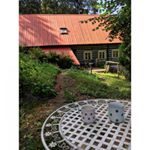cups: (75, 103, 98, 126), (104, 101, 126, 125)
